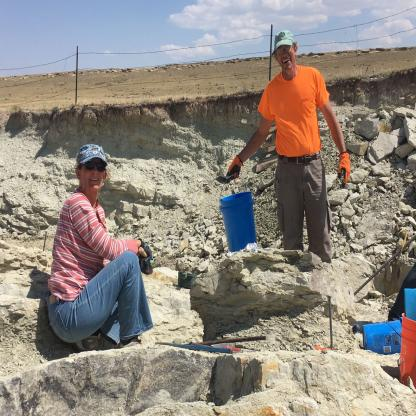person: (222, 19, 358, 274), (42, 139, 157, 350)
